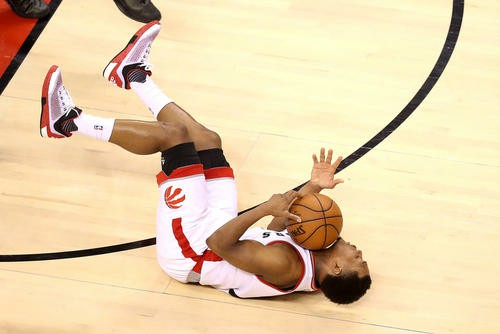fall: (38, 25, 372, 301)
